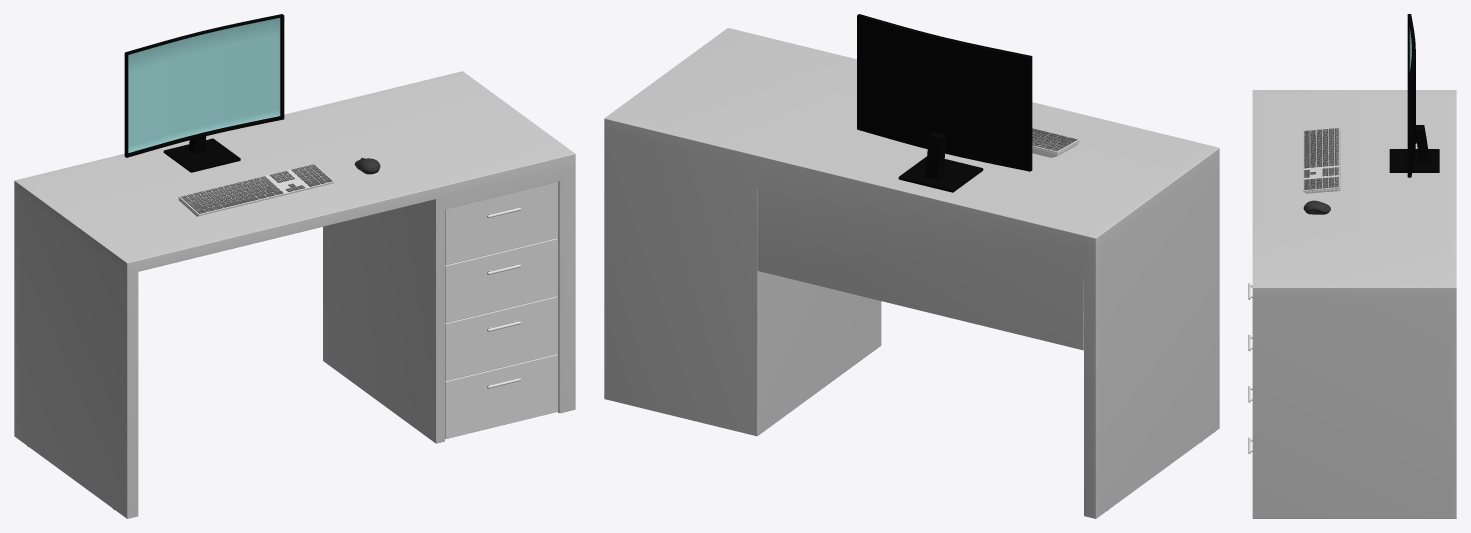
Rendered from ComputerMonitorAndDesk.fbx.
The picture shows the model from 3 angles, left to right: view 1: azimuth 30°, elevation 25°; view 2: azimuth 150°, elevation 25°; view 3: azimuth 270°, elevation 25°; orthographic projection. The views are drawn at different scales.
Visible parts, largest first — view 1: Office Desk, Drawers, Cube.002, keys, body, Cube; view 2: Office Desk, Cube.002, Cube, Cube.001; view 3: Office Desk, keys, Cube.002, body, Cube, Cube.001.
Boxes of the visible parts, x1,y1,x2,y2 form: Office Desk: (14,71,575,518); Drawers: (445,181,558,438); Cube.002: (124,14,284,157); keys: (181,164,332,213); body: (178,163,334,216); Cube: (163,138,240,172); Office Desk: (604,28,1219,518); Cube.002: (857,14,1032,171); Cube: (898,156,983,192); Cube.001: (925,132,945,179); Office Desk: (1252,90,1456,518); keys: (1304,128,1338,189); Cube.002: (1407,14,1415,177); body: (1303,127,1340,193); Cube: (1389,149,1439,172); Cube.001: (1415,125,1429,162).
Bounding box in the file's own units: 395 × 322 × 176.
